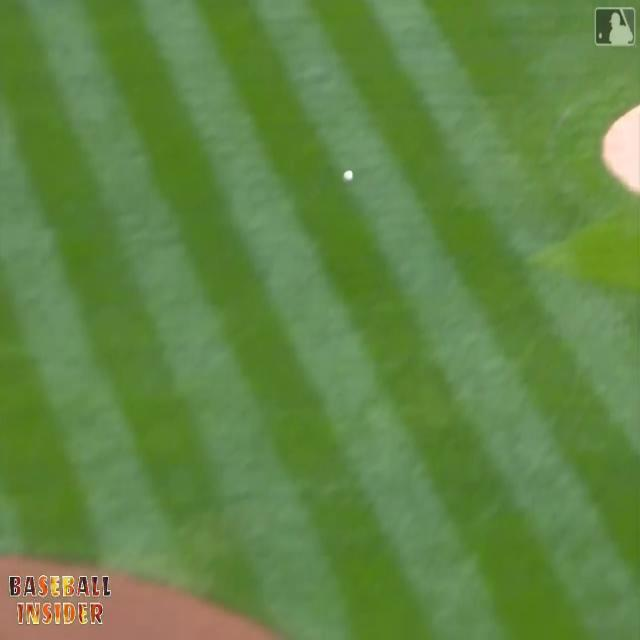baseball: (343, 168, 354, 184)
